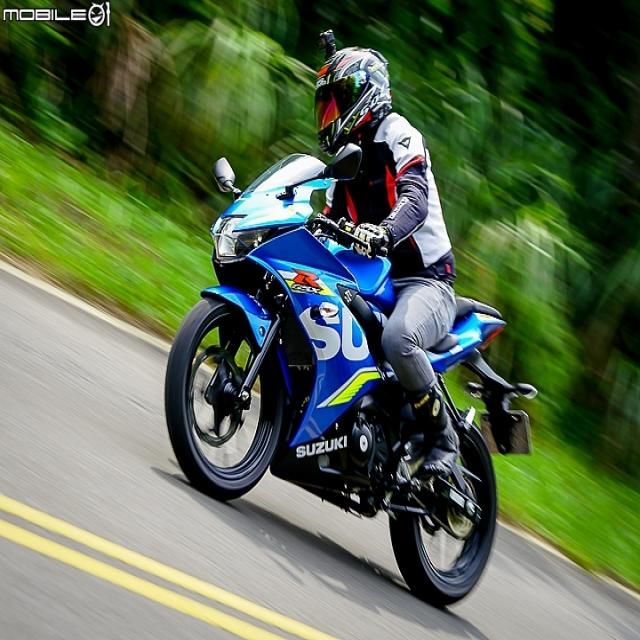Bike: (166, 145, 535, 606)
